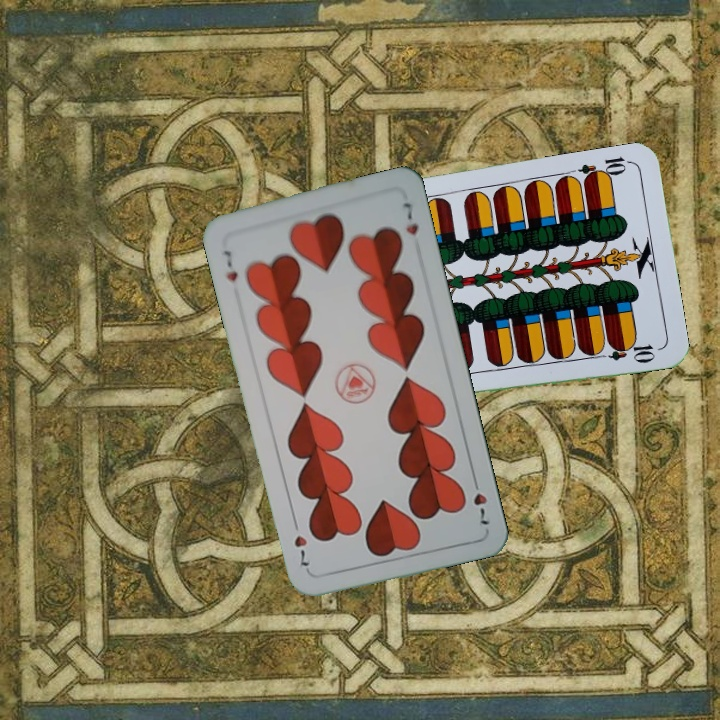E10: (575, 153, 634, 185)
H7: (468, 472, 493, 530), (219, 246, 240, 284)
